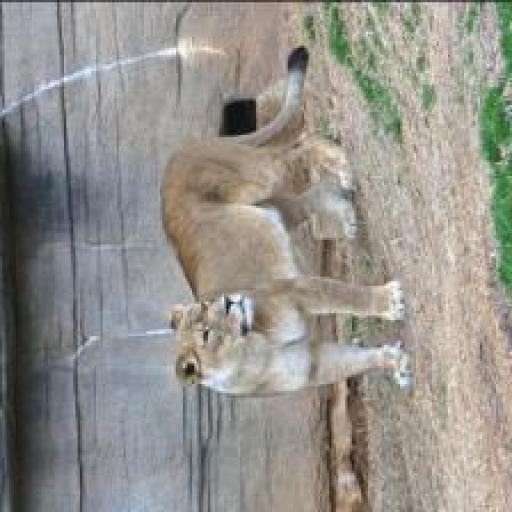lion: (149, 46, 424, 410)
